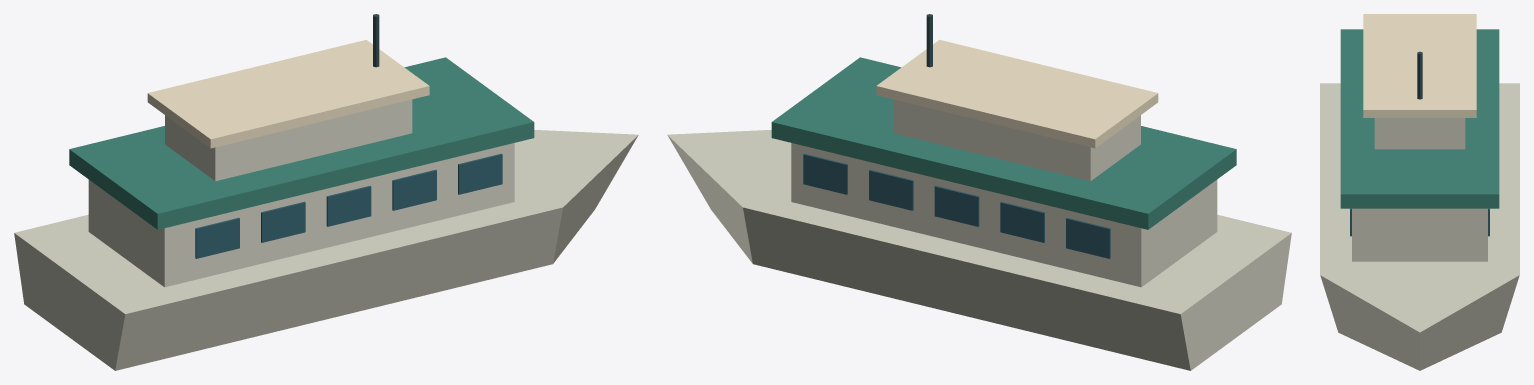
The model's file is huangpu-cruise-boat.glb.
The picture shows the model from 3 angles, left to right: view 1: azimuth 30°, elevation 25°; view 2: azimuth 150°, elevation 25°; view 3: azimuth 270°, elevation 25°; orthographic projection. The views are drawn at different scales.
Visible parts, largest first — view 1: huangpu-cruise-boat; view 2: huangpu-cruise-boat; view 3: huangpu-cruise-boat.
Part boxes in pixels (bbox=[...]): huangpu-cruise-boat: bbox=[14, 14, 638, 370]; huangpu-cruise-boat: bbox=[667, 14, 1291, 370]; huangpu-cruise-boat: bbox=[1320, 14, 1519, 370].
Bounding box in the file's own units: 13 × 5.4 × 4.4.
